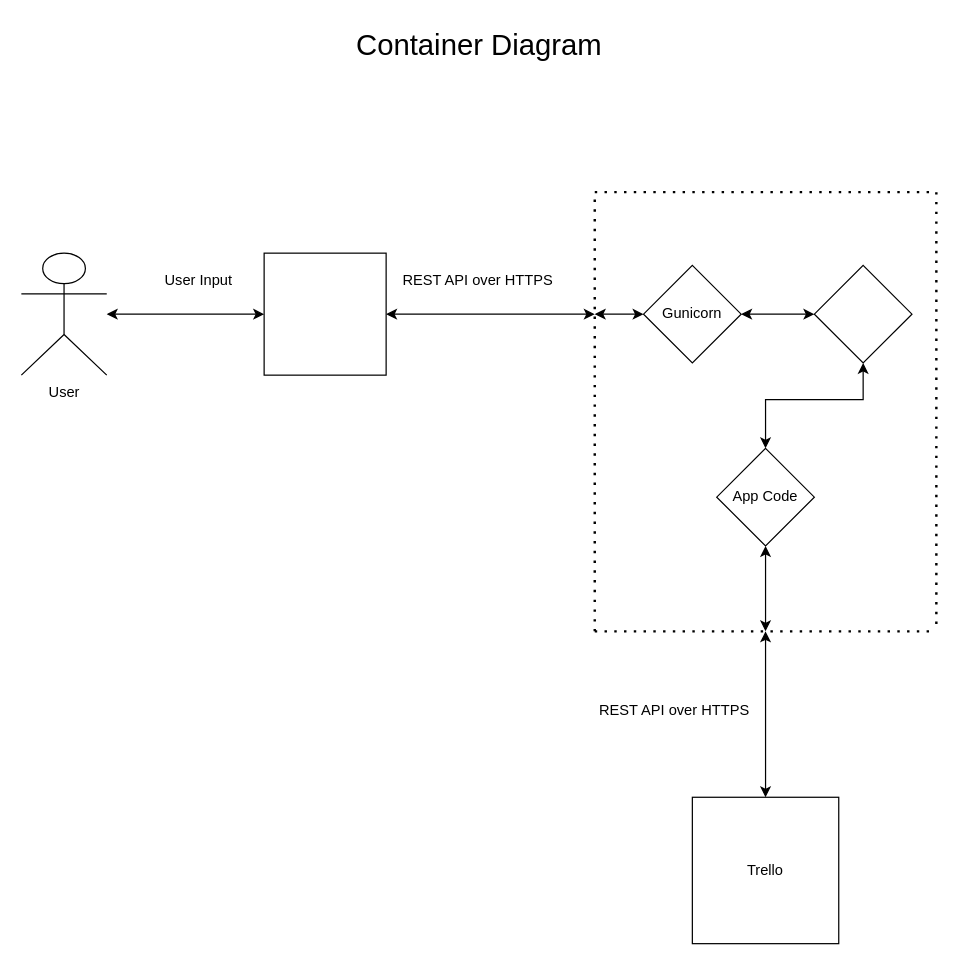
Some shapes in this 960 by 965 pixel diagram are drawn without their labels. Here are the shapes that lost their labels. From the top down, the centre of each, then its label:
At [324,313]: "Web Browser".
At [862,313]: "Flask".
